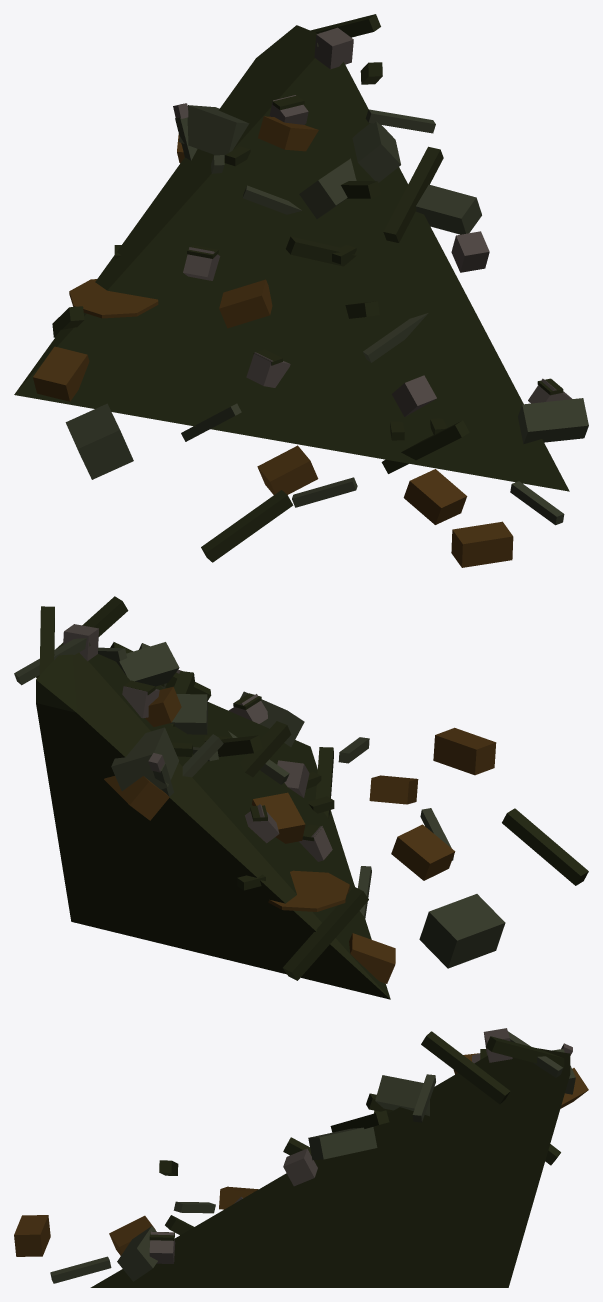
File: SM_PilaZombi_RemateIzq_Altura5_s0_LOD0.fbx
3 views of the same model, one above another, from view 1: azimuth 30°, elevation 25°; view 2: azimuth 150°, elevation 25°; view 3: azimuth 270°, elevation 25° (orthographic). The views are drawn at different scales.
Visible parts, largest first — view 1: SM_pila_zombis_v4_LOD0; view 2: SM_pila_zombis_v4_LOD0; view 3: SM_pila_zombis_v4_LOD0.
Part boxes in pixels (x1,y1,x2,y2): SM_pila_zombis_v4_LOD0: (14,14,588,567); SM_pila_zombis_v4_LOD0: (14,596,588,999); SM_pila_zombis_v4_LOD0: (14,1028,588,1287).
Bounding box in the file's own units: 3.56 × 2.81 × 5.12.
